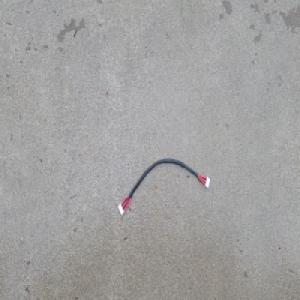Wire: (117, 157, 211, 217)
